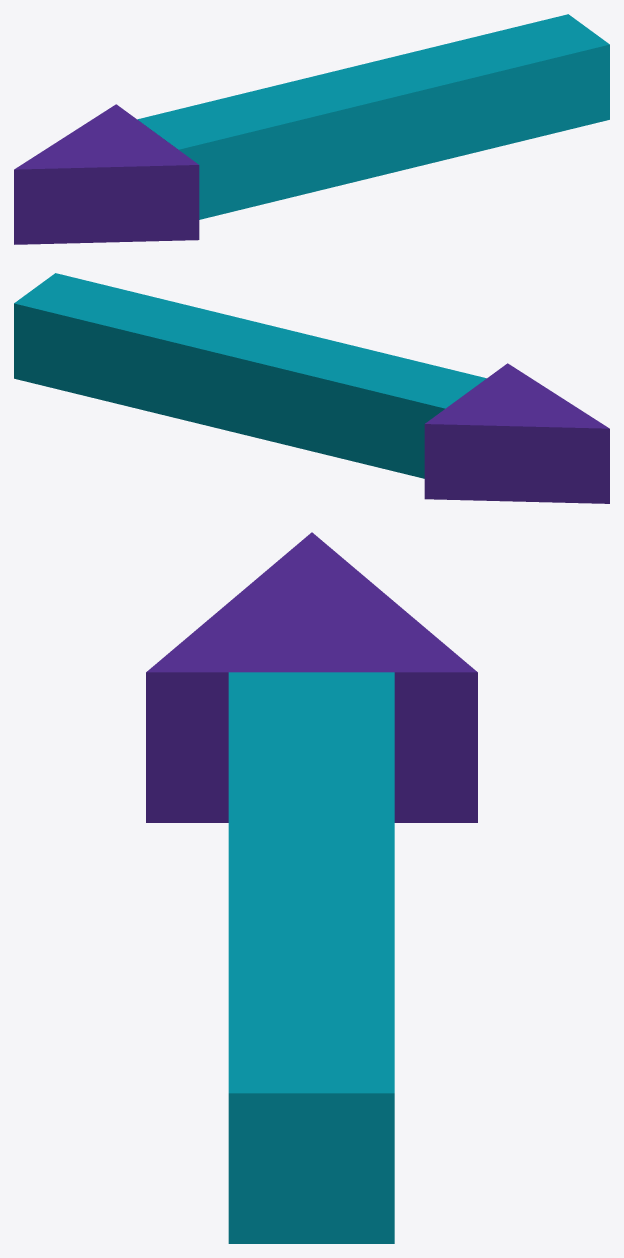
3 renders of one model, top to bottom at view 1: azimuth 30°, elevation 25°; view 2: azimuth 150°, elevation 25°; view 3: azimuth 270°, elevation 25°, orthographic. The views are drawn at different scales.
Visible parts, largest first — view 1: node_MeshObject-1485064256-PolyPaper2; view 2: node_MeshObject-1485064256-PolyPaper2; view 3: node_MeshObject-1485064256-PolyPaper2.
Boxes of the visible parts, <box> form: node_MeshObject-1485064256-PolyPaper2: <box>14,14,609,244</box>; node_MeshObject-1485064256-PolyPaper2: <box>14,273,609,503</box>; node_MeshObject-1485064256-PolyPaper2: <box>146,532,477,1243</box>.
Bounding box in the file's own units: 0.16 × 0.02 × 0.04.
